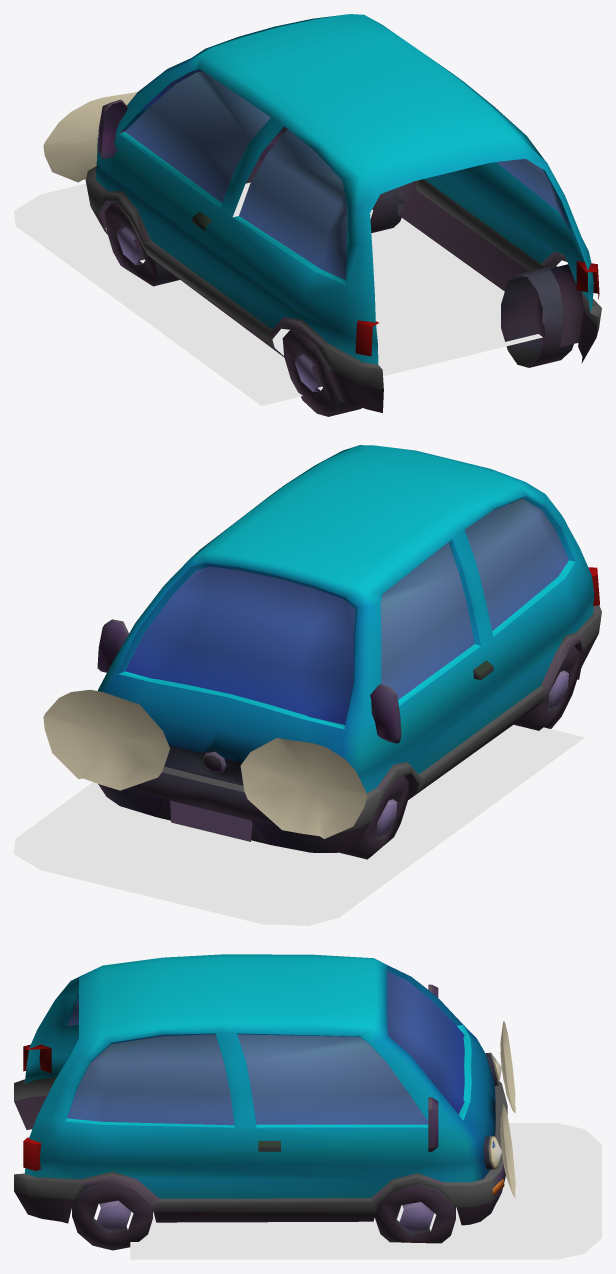
The model's file is City_Single2_Car04.fbx.
3 renders of one model, top to bottom at view 1: azimuth 30°, elevation 25°; view 2: azimuth 150°, elevation 25°; view 3: azimuth 270°, elevation 25°, orthographic. The views are drawn at different scales.
Visible parts, largest first — view 1: city_single2_car04, car01Shadow, carLights; view 2: city_single2_car04, car01Shadow, carLights; view 3: city_single2_car04, car01Shadow, carLights.
Boxes of the visible parts, <box> form: city_single2_car04: <box>85,14,601,416</box>; car01Shadow: <box>14,182,542,405</box>; carLights: <box>43,91,137,182</box>; city_single2_car04: <box>97,445,601,859</box>; car01Shadow: <box>14,724,584,925</box>; carLights: <box>43,689,367,838</box>; city_single2_car04: <box>14,954,507,1250</box>; car01Shadow: <box>130,1123,601,1259</box>; carLights: <box>488,1021,515,1197</box>.
Size of the model in its own units: 118 by 87.41 by 213.
